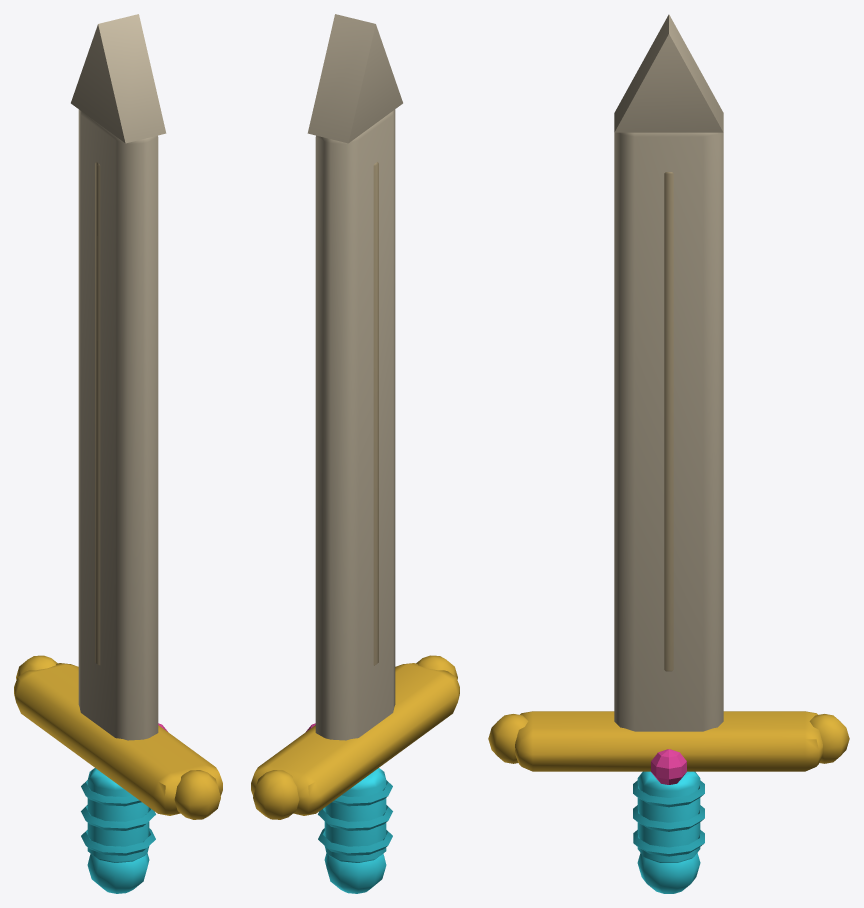
File: SM_Item_FoamSword.fbx
3 renders of one model, left to right at view 1: azimuth 30°, elevation 25°; view 2: azimuth 150°, elevation 25°; view 3: azimuth 270°, elevation 25°, orthographic.
Visible parts, largest first — view 1: SM_Item_FoamSword; view 2: SM_Item_FoamSword; view 3: SM_Item_FoamSword.
Part boxes in pixels (x1,y1,x2,y2): SM_Item_FoamSword: [14, 14, 222, 893]; SM_Item_FoamSword: [251, 14, 459, 893]; SM_Item_FoamSword: [488, 14, 849, 893].
Bounding box in the file's own units: 12.35 × 123 × 46.47.
